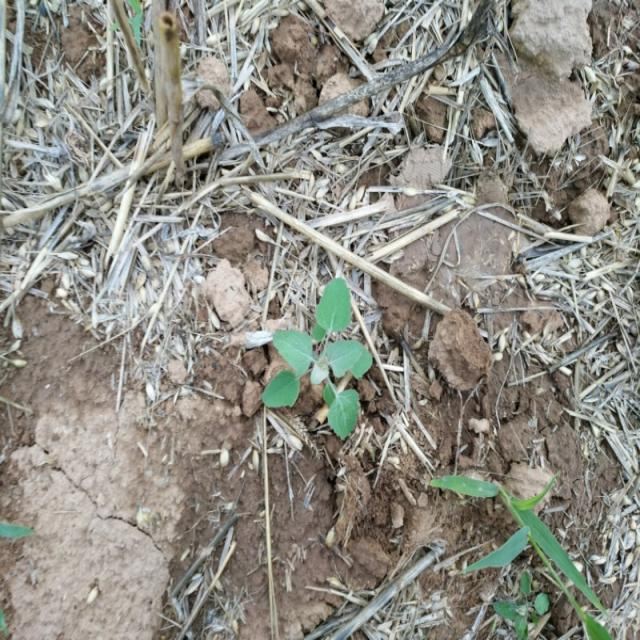goosefoots: (244, 270, 383, 448)
